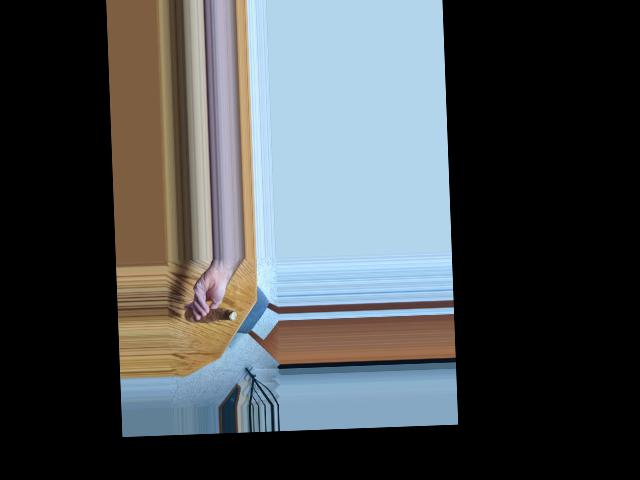sweet_potato: (187, 304, 233, 327)
